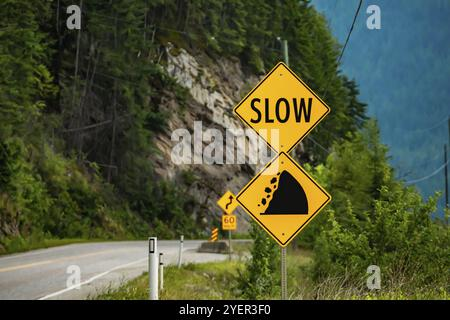FallenSign: (232, 150, 337, 249)
